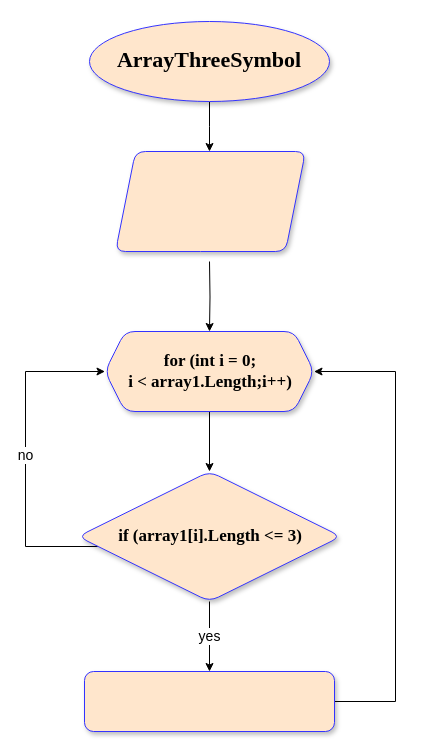
The diagram is 421 pixels wide and 756 high, and some of its shapes have lost their labels. The centre of each missing label's shape, as x and y in pixels:
"array2[count] = array1[i]; count++;" belongs at (x=210, y=702).
"string[] array1 string[] array2 int count = 0" belongs at (x=211, y=202).
